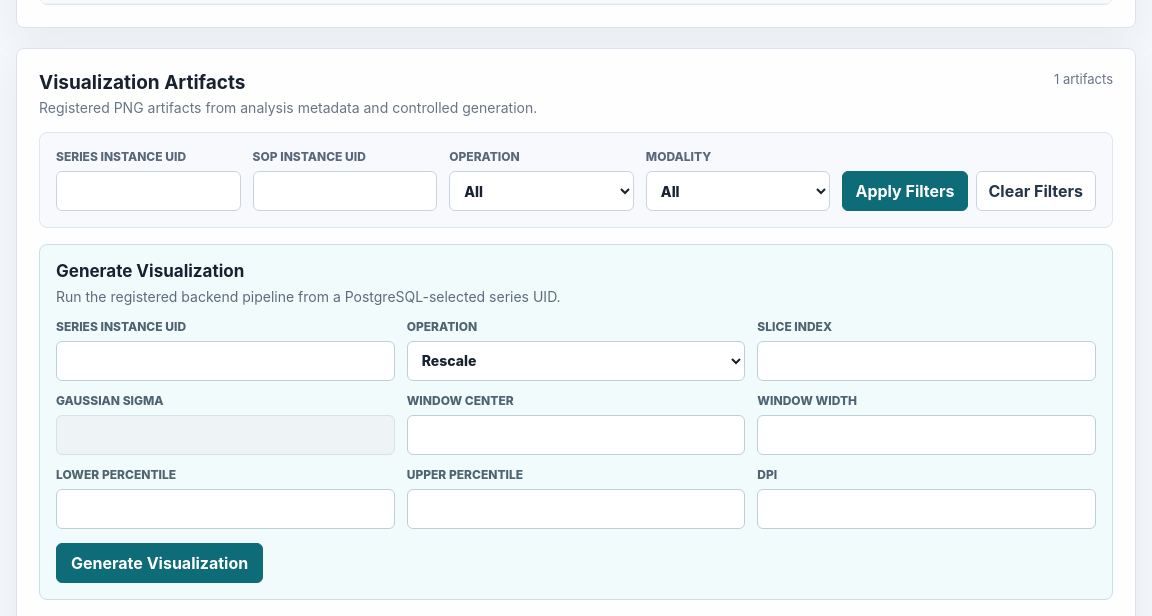
VisualizationArtifactWorkbench › non-positive gaussian sigma prevents submission
The image size is (1152, 616).
(page scrolled)
Type "1.2.826.0.1.series" into the 2nd field labelled "Series Instance UID" at (225, 360), box [56,340,395,380]
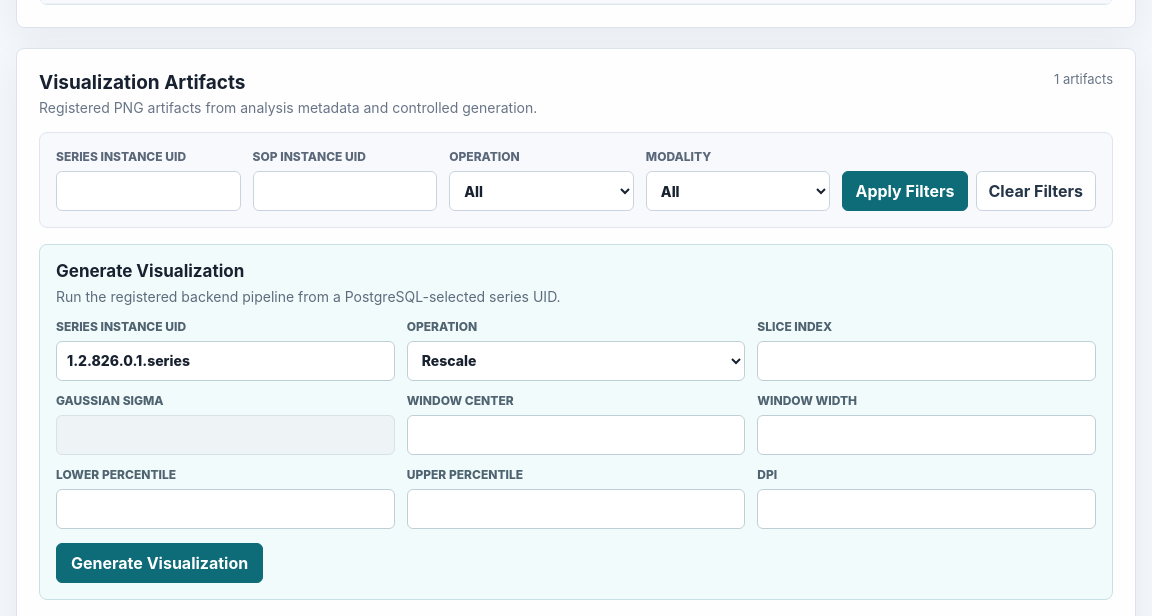
Select "Gaussian" in the 2nd dropdown labelled "Operation" at (576, 360), box [407,340,745,380]
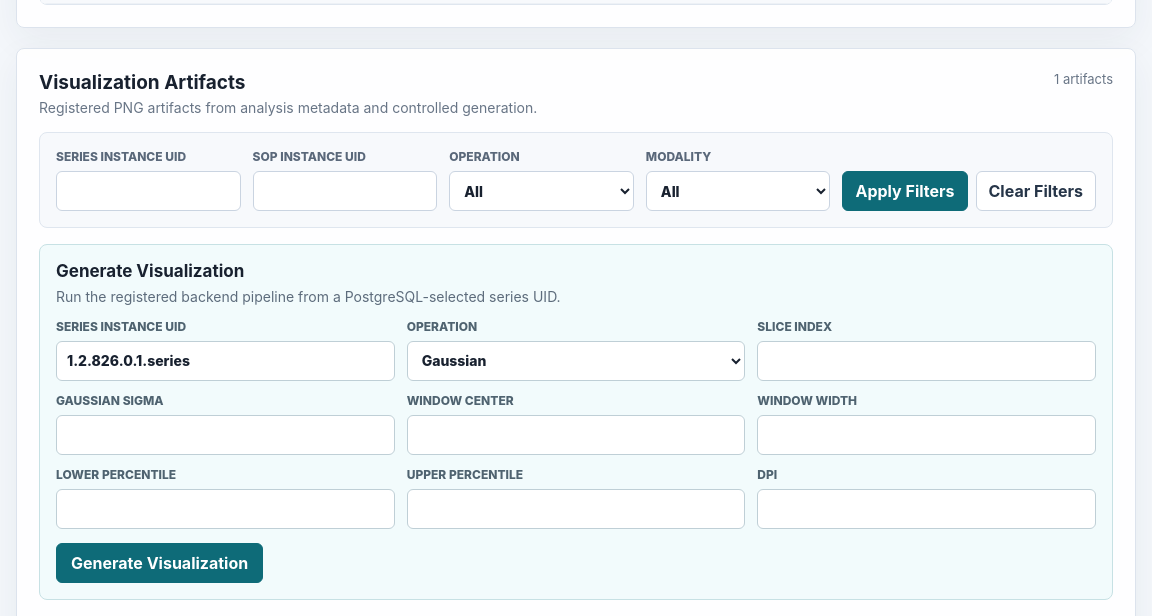
Type "0" into the number field labelled "Gaussian sigma" at (225, 434), box [56,414,395,454]
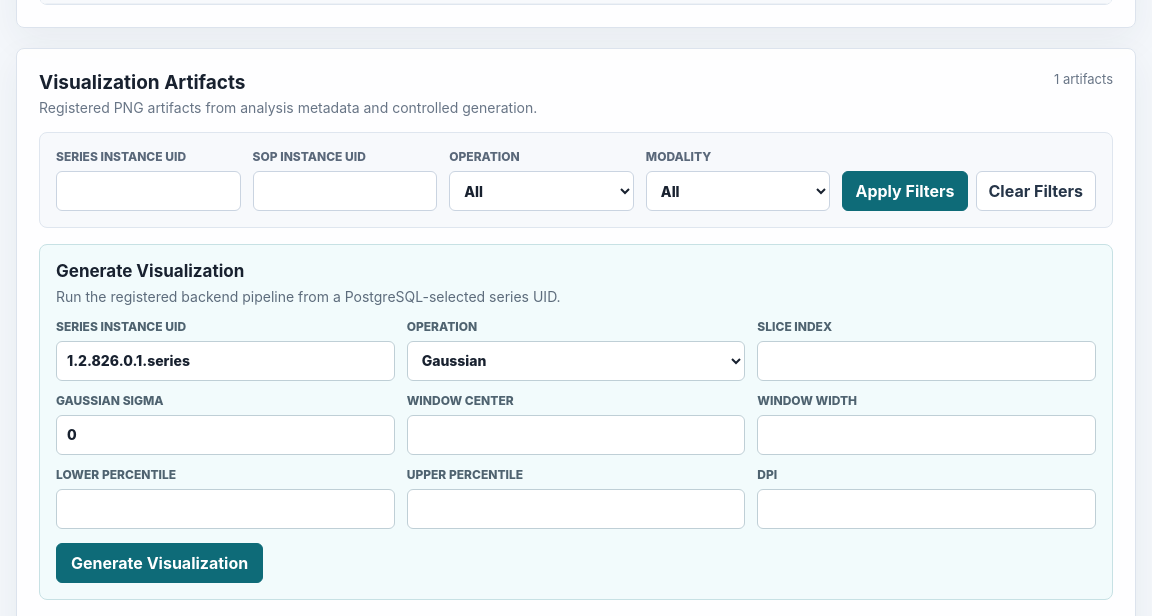
Click the button "Generate Visualization" at (160, 562), box [56,542,263,582]
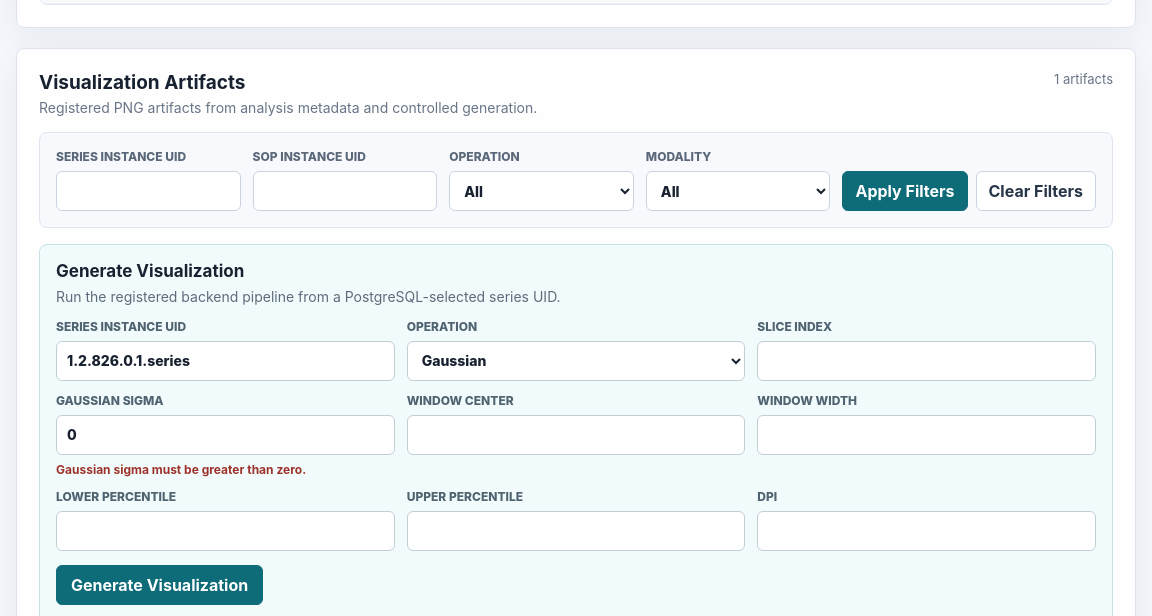
Now the text "Gaussian sigma must be greater than zero." is shown, box [56,462,306,476]
